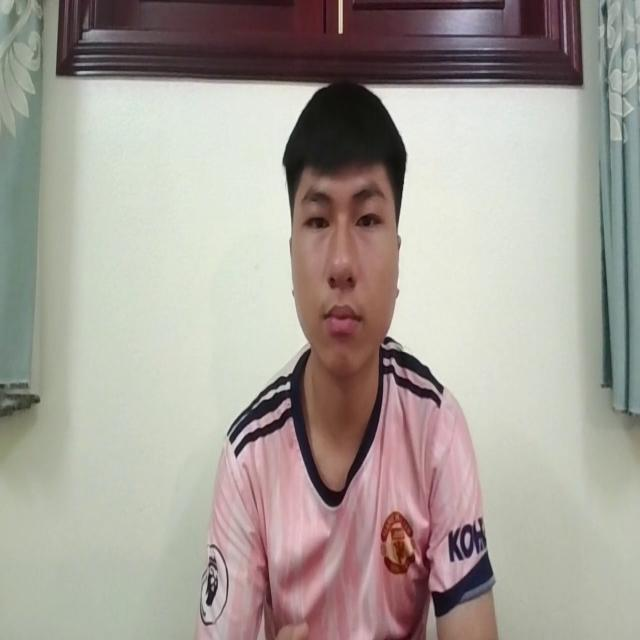student: (204, 73, 502, 640)
